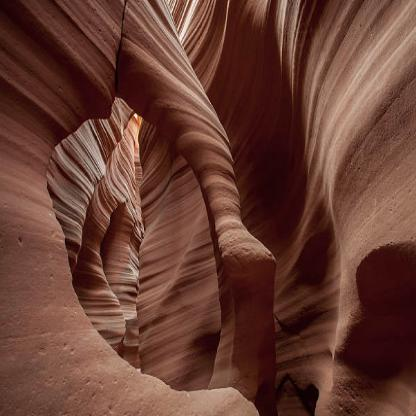Sedimentary_Sandstone: (282, 11, 416, 415), (119, 0, 261, 381)
